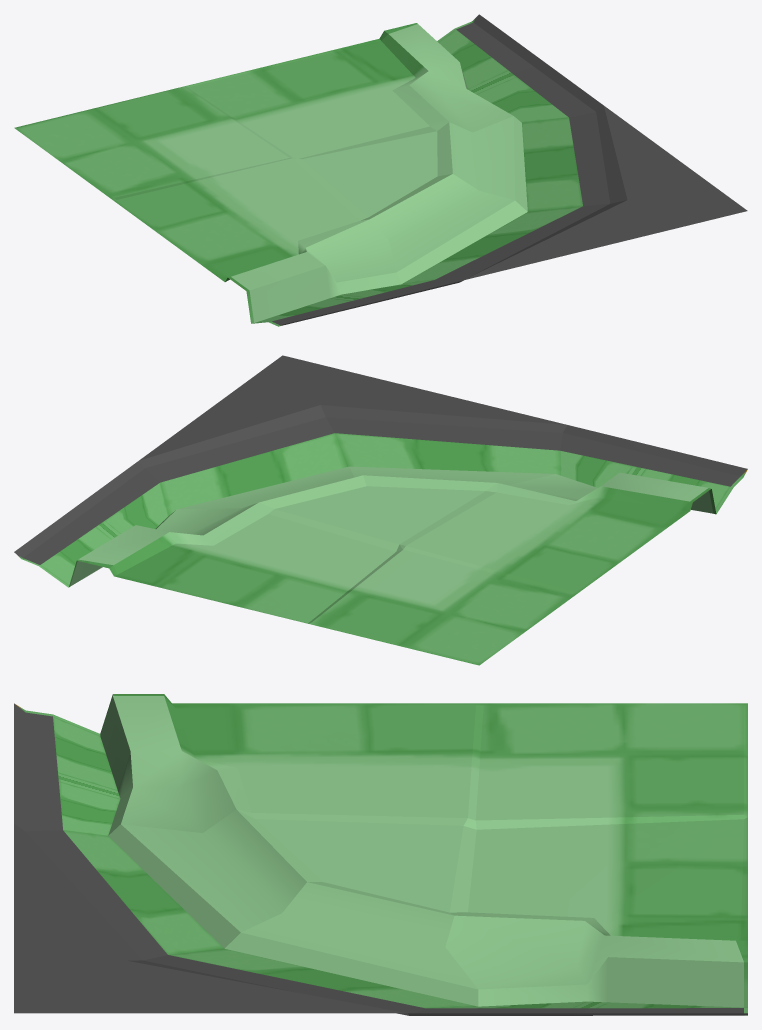
Rendered from Floor_Sidewalk_Corner.fbx.
3 views of the same model, one above another, from view 1: azimuth 30°, elevation 25°; view 2: azimuth 150°, elevation 25°; view 3: azimuth 270°, elevation 25° (orthographic). The views are drawn at different scales.
Visible parts, largest first — view 1: SM_Env_Sidewalk_Dip_Corner_01; view 2: SM_Env_Sidewalk_Dip_Corner_01; view 3: SM_Env_Sidewalk_Dip_Corner_01.
Part boxes in pixels (bbox=[...]): SM_Env_Sidewalk_Dip_Corner_01: bbox=[14, 14, 747, 326]; SM_Env_Sidewalk_Dip_Corner_01: bbox=[14, 355, 747, 665]; SM_Env_Sidewalk_Dip_Corner_01: bbox=[14, 694, 747, 1015].
Size of the model in its own units: 5 by 0.3 by 5.
